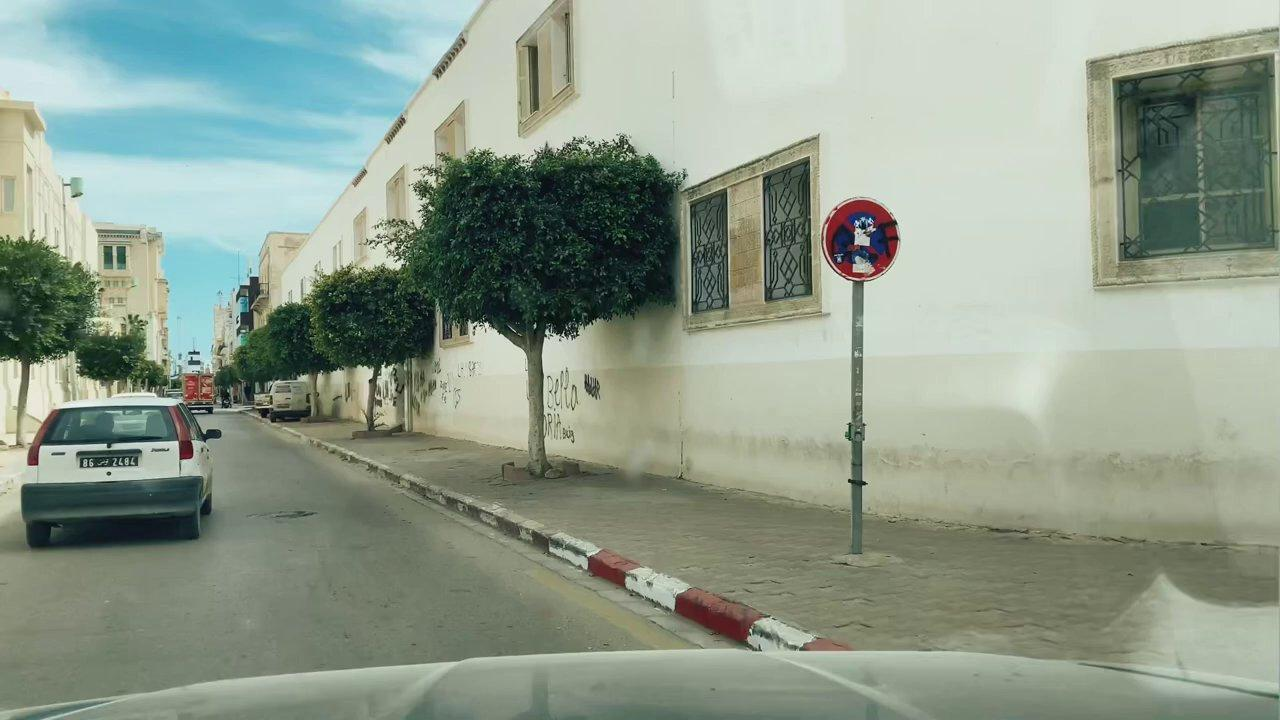no stopping: (817, 194, 908, 287)
